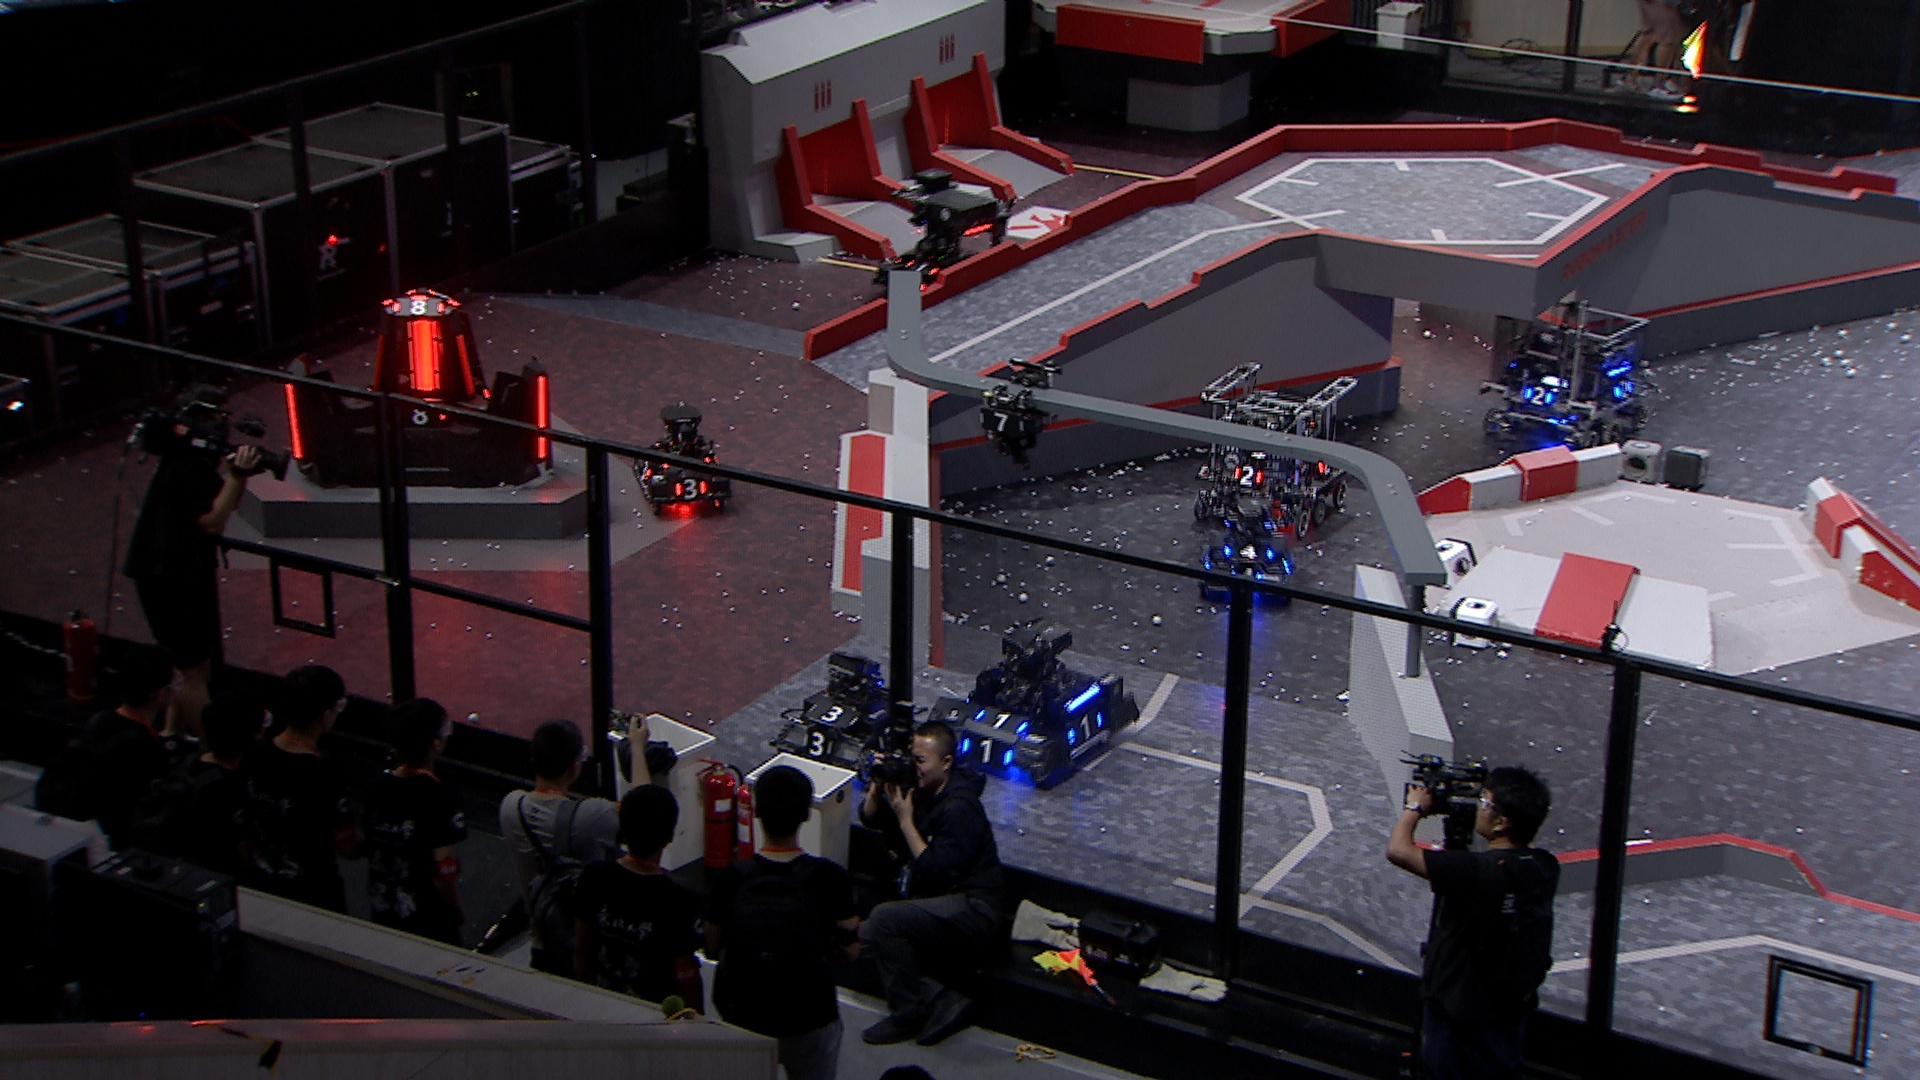armor: (405, 318, 443, 396), (957, 735, 1017, 767), (282, 382, 305, 462), (531, 371, 551, 458), (806, 698, 862, 728), (975, 407, 1029, 436), (972, 708, 1031, 735), (454, 334, 477, 396), (1064, 711, 1105, 745), (1218, 542, 1276, 564), (390, 297, 447, 319), (400, 405, 448, 429), (371, 328, 385, 390), (800, 731, 836, 756), (673, 477, 708, 501), (1522, 382, 1555, 407), (1232, 465, 1267, 488), (905, 257, 942, 277), (1611, 377, 1636, 401), (1316, 456, 1337, 477), (636, 456, 651, 481)
base: (276, 287, 556, 491)
car: (934, 615, 1135, 785), (1188, 363, 1358, 537), (1472, 294, 1648, 452), (870, 167, 1021, 311), (774, 645, 930, 783), (626, 400, 737, 512), (1196, 498, 1300, 604)
watcher: (972, 356, 1060, 472)
